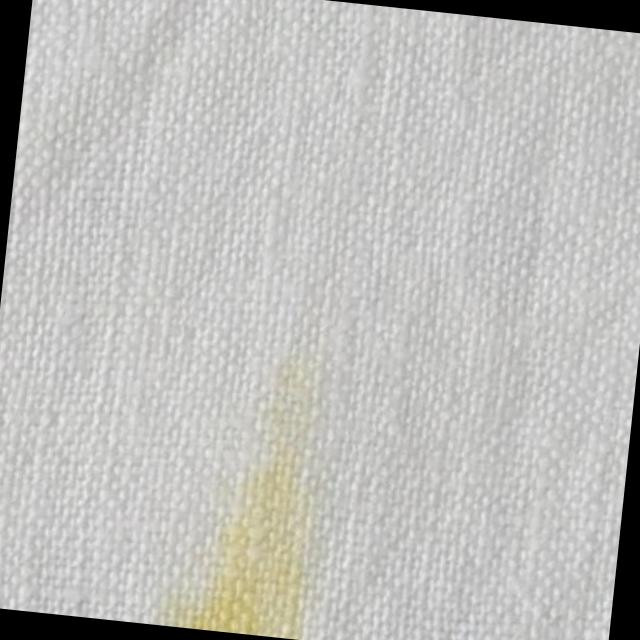Stain: (141, 338, 335, 640)
